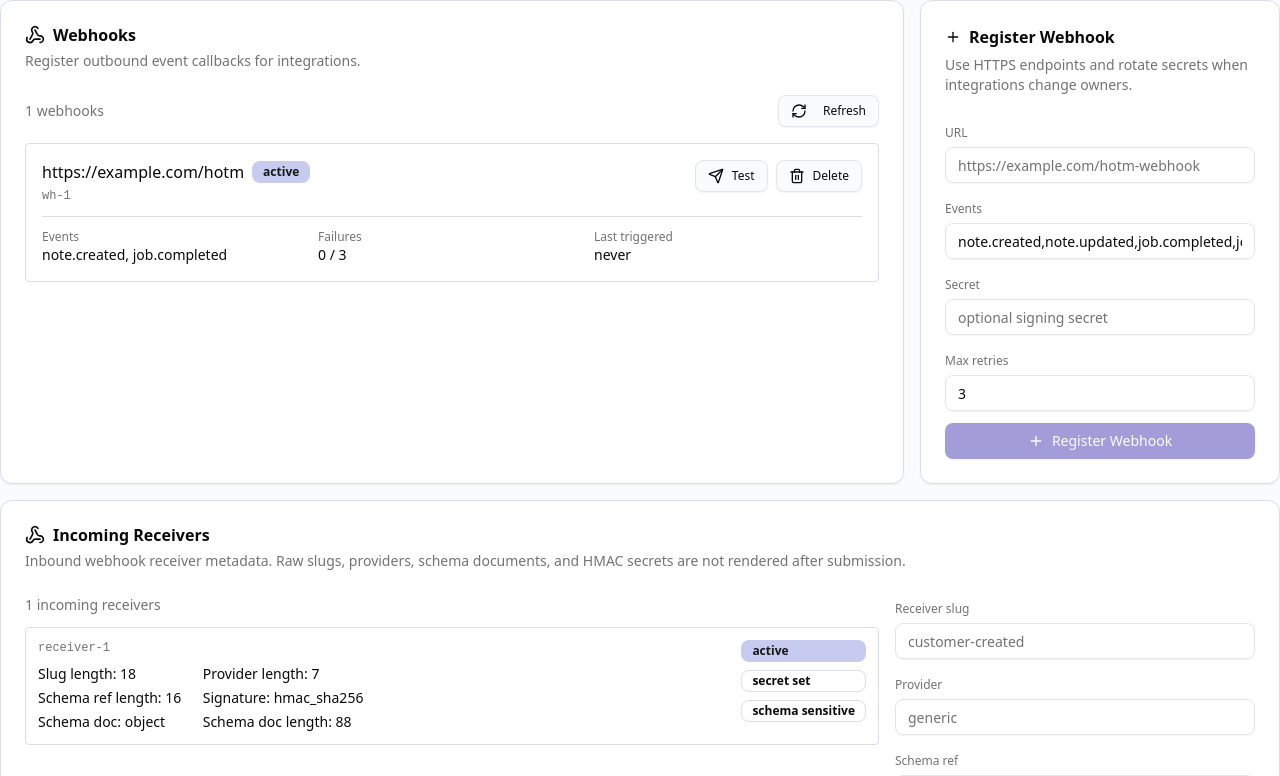
Test case: WebhooksPanel › sends test deliveries and deletes webhooks
Expected: the text "https://example.com/hotm" is shown, [42, 160, 244, 184]
Step 1. Click the button "Test" → x=731, y=176, box [695, 160, 768, 192]
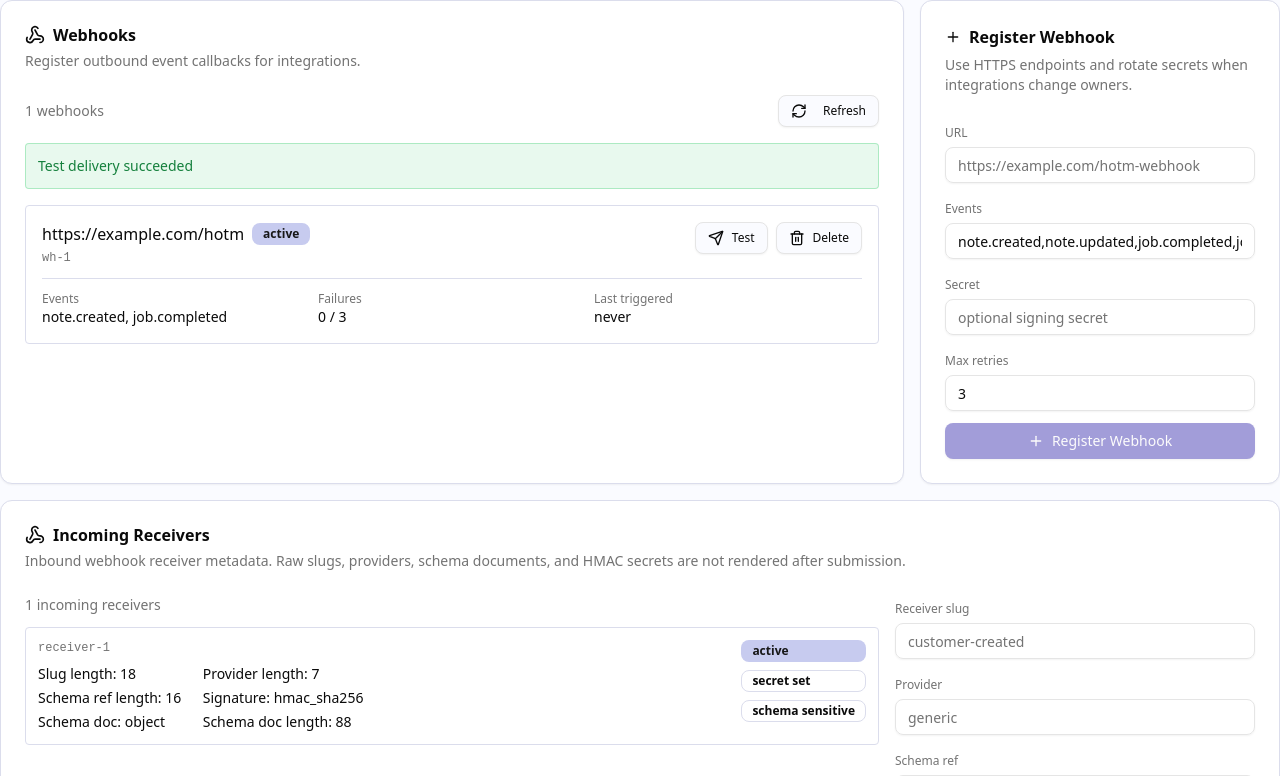
Result: the text "Test delivery succeeded" is shown at [25, 143, 879, 189]
Step 2. Click the button "Delete" → x=819, y=238, box [776, 222, 862, 254]
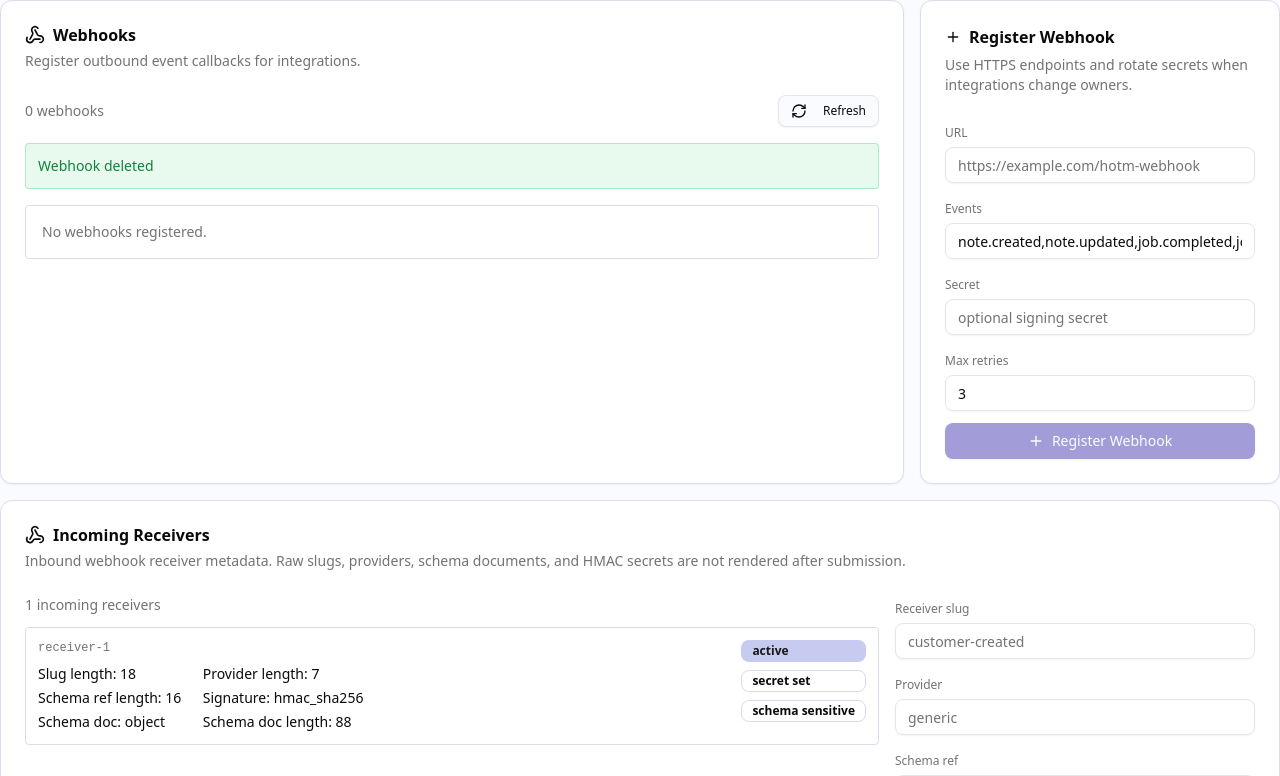
Result: the text "Webhook deleted" is shown at [25, 143, 879, 189]
